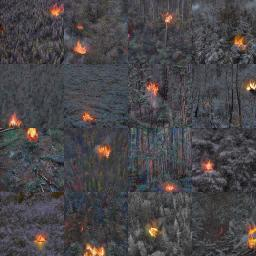Small fire: (81, 242, 106, 256), (6, 114, 24, 132), (72, 40, 86, 55), (144, 79, 160, 92), (163, 176, 176, 192), (78, 111, 95, 122), (236, 35, 249, 49), (201, 161, 215, 174), (31, 232, 46, 244), (247, 226, 256, 245), (98, 141, 109, 156), (244, 80, 256, 92), (148, 227, 159, 240), (47, 8, 61, 17), (30, 127, 38, 140), (163, 16, 173, 23)
